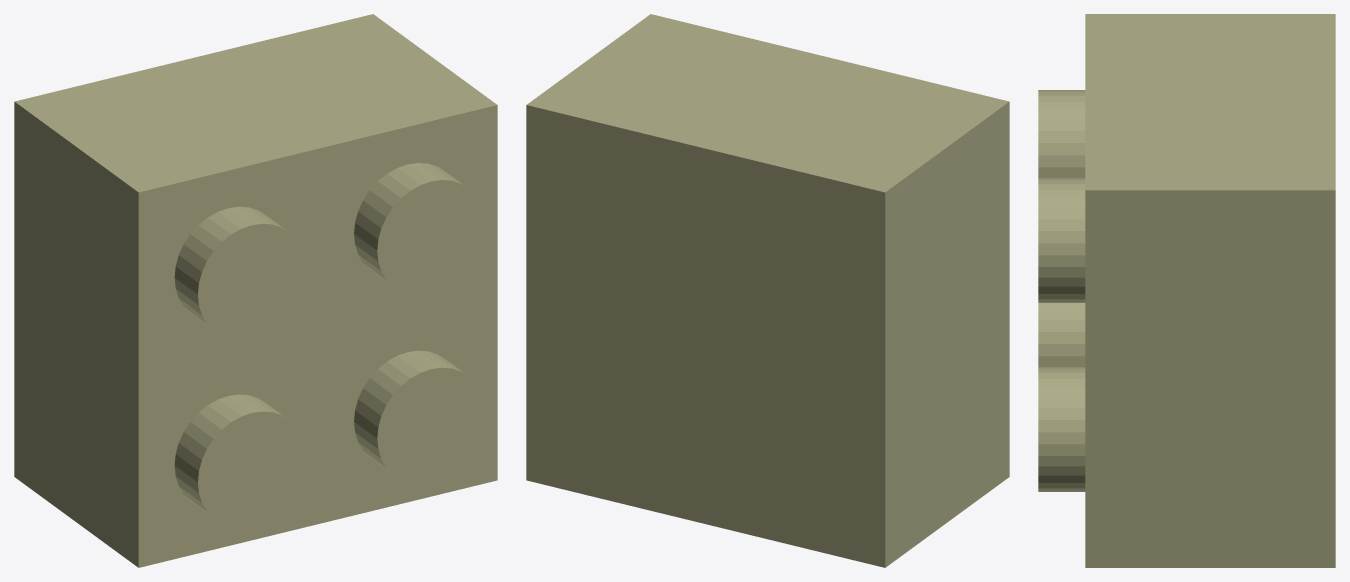
Rendered from brick_4.glb.
The picture shows the model from 3 angles, left to right: view 1: azimuth 30°, elevation 25°; view 2: azimuth 150°, elevation 25°; view 3: azimuth 270°, elevation 25°; orthographic projection.
Visible parts, largest first — view 1: world; view 2: world; view 3: world.
Part boxes in pixels (x1=…): world: x1=14, y1=14, x2=497, y2=567; world: x1=526, y1=14, x2=1009, y2=567; world: x1=1038, y1=14, x2=1335, y2=567.
Size of the model in its own units: 16 by 16 by 11.4.
